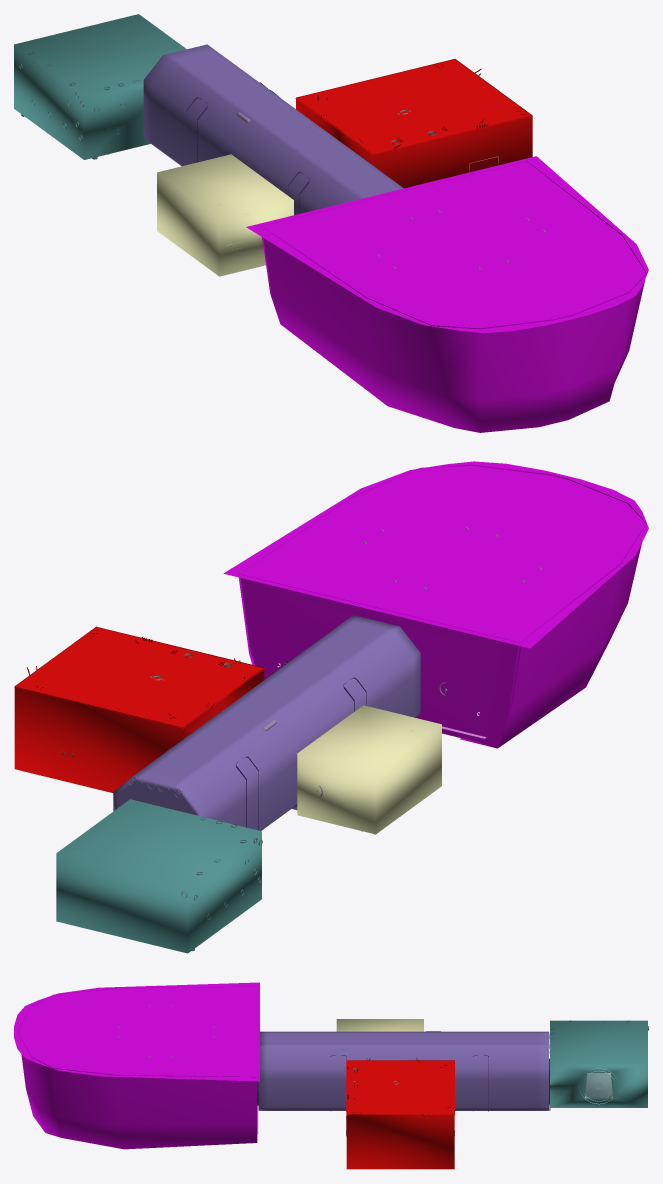
File: Submarino.fbx
The picture shows the model from 3 angles, top to bottom: view 1: azimuth 30°, elevation 25°; view 2: azimuth 150°, elevation 25°; view 3: azimuth 270°, elevation 25°; orthographic projection. The views are drawn at different scales.
Parts seen in each view (by area): view 1: Estrutura_Salac, PareTeto_Corredor, Estrutura_Equip, CTREDE_Quarto, CTREDE_Banheiro; view 2: Estrutura_Salac, PareTeto_Corredor, Estrutura_Equip, CTREDE_Quarto, CTREDE_Banheiro; view 3: Estrutura_Salac, PareTeto_Corredor, Estrutura_Equip, CTREDE_Quarto, CTREDE_Banheiro, Mob1_Quarto.
Boxes of the visible parts, box(x1,y1,x2,y2) form: Estrutura_Salac: box(246, 156, 648, 432); PareTeto_Corredor: box(143, 44, 403, 215); Estrutura_Equip: box(295, 59, 532, 188); CTREDE_Quarto: box(14, 14, 186, 159); CTREDE_Banheiro: box(157, 154, 293, 276); Estrutura_Salac: box(223, 461, 648, 748); PareTeto_Corredor: box(113, 615, 420, 830); Estrutura_Equip: box(14, 626, 264, 792); CTREDE_Quarto: box(56, 799, 261, 953); CTREDE_Banheiro: box(297, 705, 441, 834); Estrutura_Salac: box(14, 982, 259, 1149); PareTeto_Corredor: box(258, 1031, 548, 1110); Estrutura_Equip: box(346, 1060, 454, 1169); CTREDE_Quarto: box(550, 1020, 647, 1107); CTREDE_Banheiro: box(336, 1019, 423, 1031); Mob1_Quarto: box(579, 1068, 618, 1104).
Bounding box in the file's own units: 273 × 87.92 × 603.
